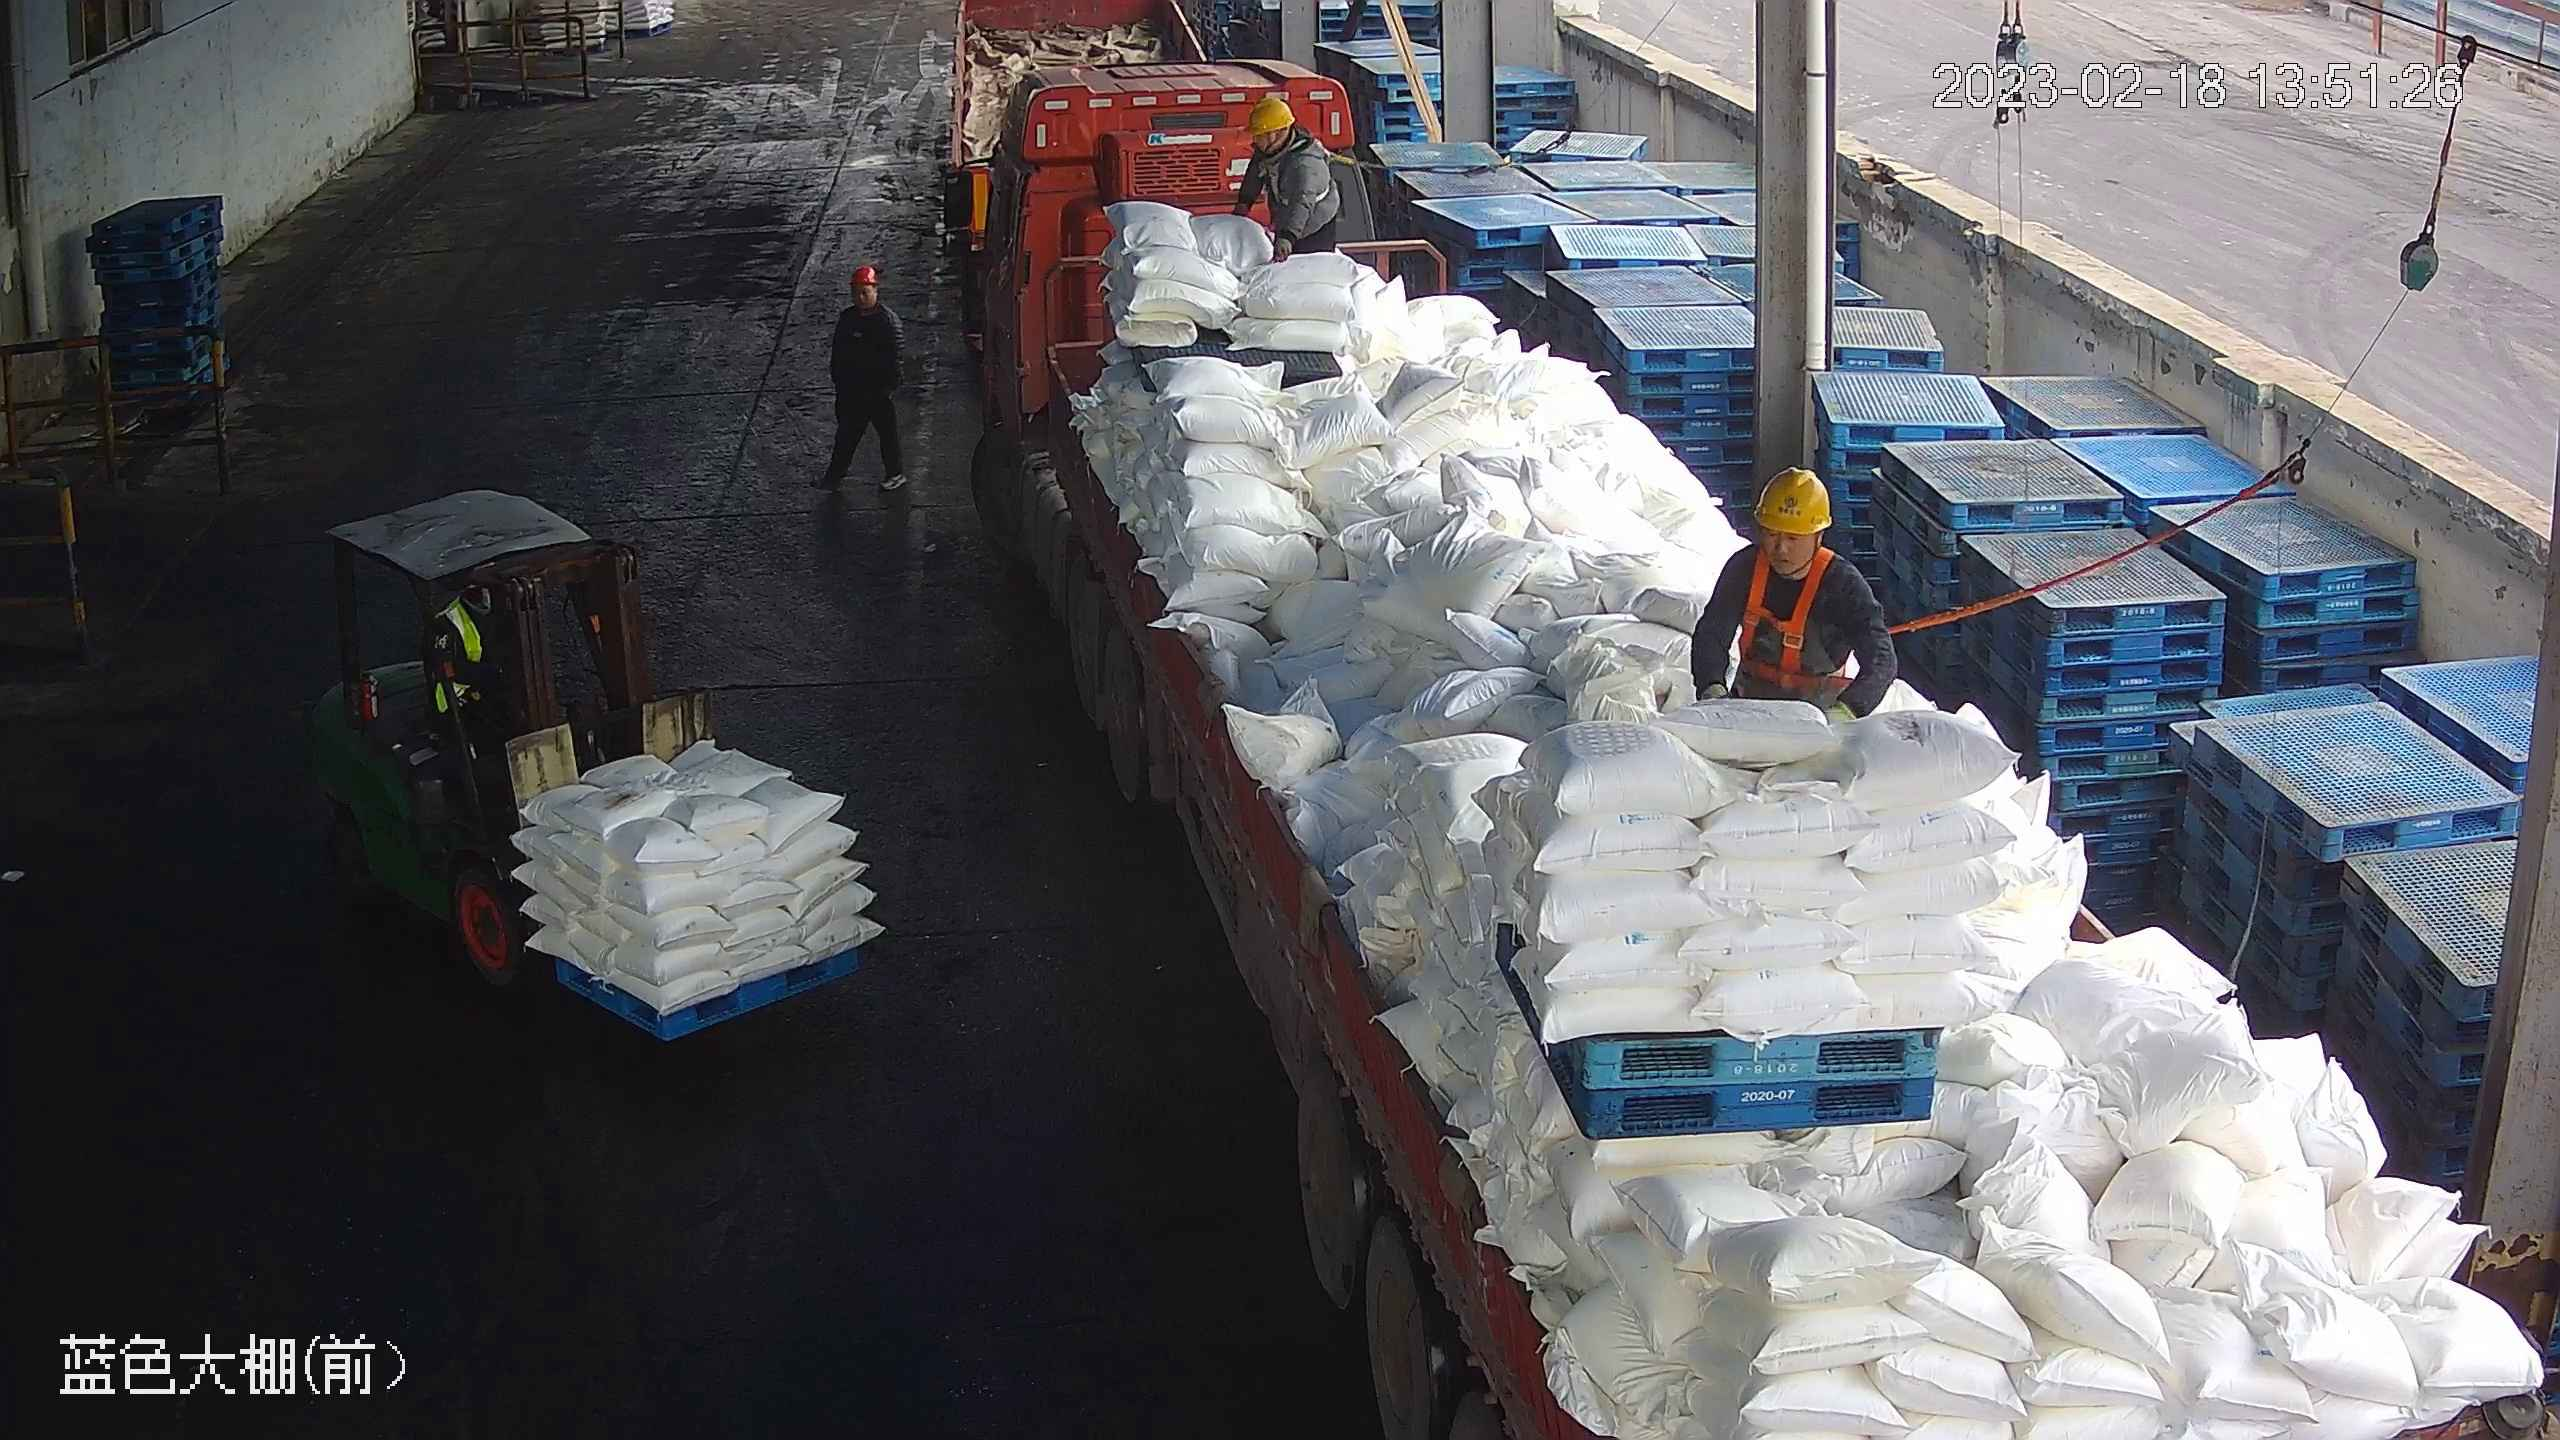belt: (1729, 554, 1927, 693), (1242, 140, 1371, 210)
head: (1688, 469, 1869, 645), (1242, 98, 1337, 196), (820, 267, 903, 352)
helmet: (1752, 467, 1837, 537), (1240, 98, 1296, 133), (849, 267, 883, 286)
people: (806, 259, 917, 498), (1230, 94, 1345, 267)
truck: (944, 49, 2560, 1440)
